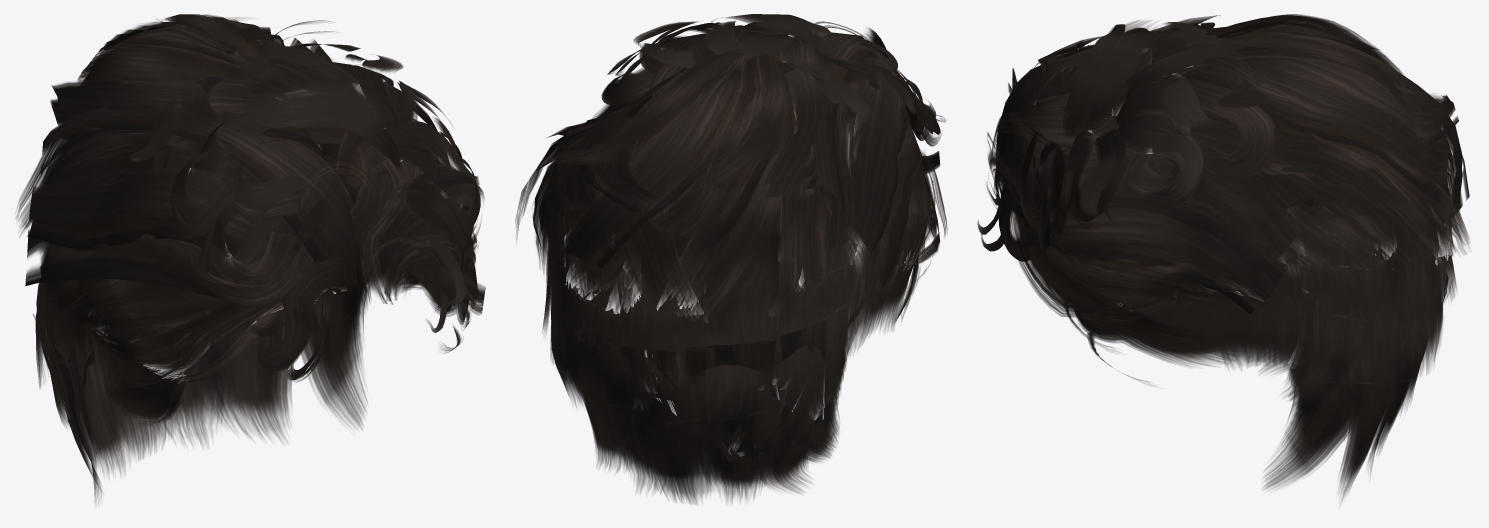
File: diamond_wavy_03 0TexturedWaves.glb
3 views of the same model, side by side, from view 1: azimuth 30°, elevation 25°; view 2: azimuth 150°, elevation 25°; view 3: azimuth 270°, elevation 25° (orthographic). The views are drawn at different scales.
Visible parts, largest first — view 1: TRIANGLE - CURLY - SIDE PART.011, SIDE PART.004; view 2: TRIANGLE - CURLY - SIDE PART.011, SIDE PART.004; view 3: TRIANGLE - CURLY - SIDE PART.011, SIDE PART.004.
Boxes of the visible parts, left/top/right/bottom form: TRIANGLE - CURLY - SIDE PART.011: left=15, top=14, right=485, bottom=503; SIDE PART.004: left=129, top=20, right=484, bottom=382; TRIANGLE - CURLY - SIDE PART.011: left=515, top=32, right=947, bottom=504; SIDE PART.004: left=601, top=14, right=945, bottom=173; TRIANGLE - CURLY - SIDE PART.011: left=987, top=14, right=1469, bottom=503; SIDE PART.004: left=977, top=15, right=1292, bottom=261.
Bounding box in the file's own units: 0.2093 × 0.2485 × 0.256.
1 material, 1 textured.
